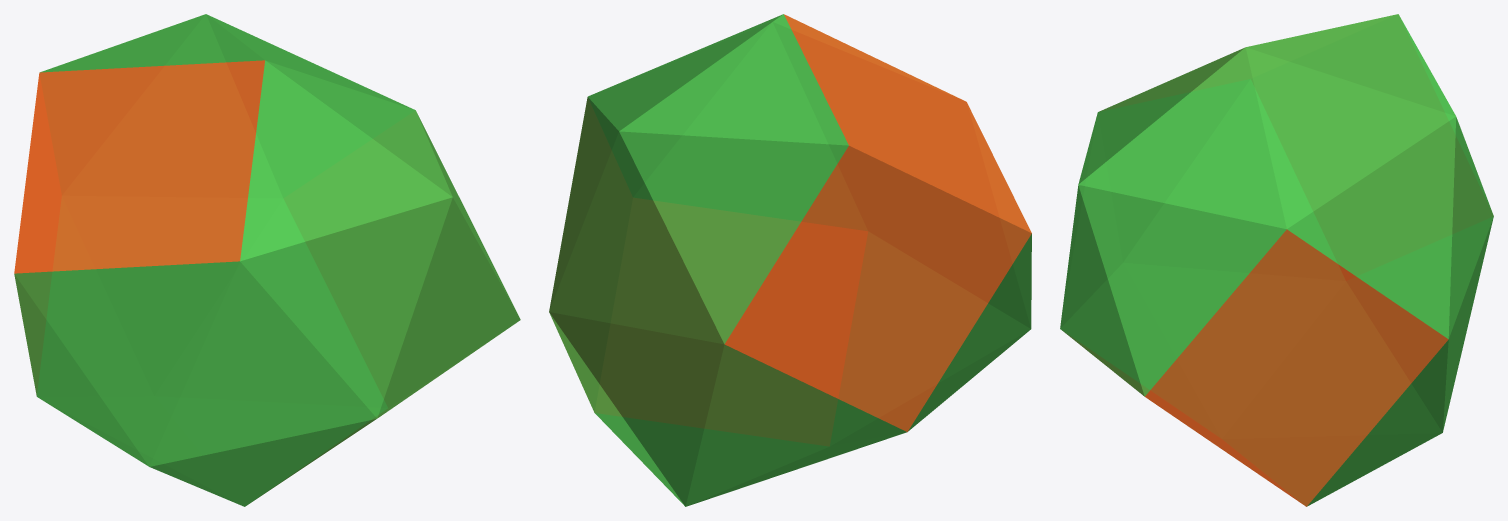
File: j90_disphenocingulum.obj
3 views of the same model, side by side, from view 1: azimuth 30°, elevation 25°; view 2: azimuth 150°, elevation 25°; view 3: azimuth 270°, elevation 25° (orthographic). The views are drawn at different scales.
Bounding box in the file's own units: 1.98 × 1.8 × 1.74.
